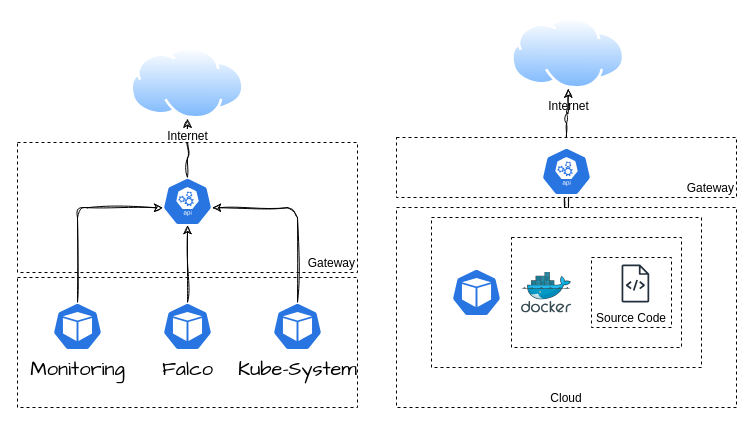
This 754x425 diagram has some shape labels left out. Each missing label, with the box of its shape:
Cluster: (430, 216, 702, 368)
Container: (510, 236, 682, 348)
Services: (16, 276, 358, 408)
